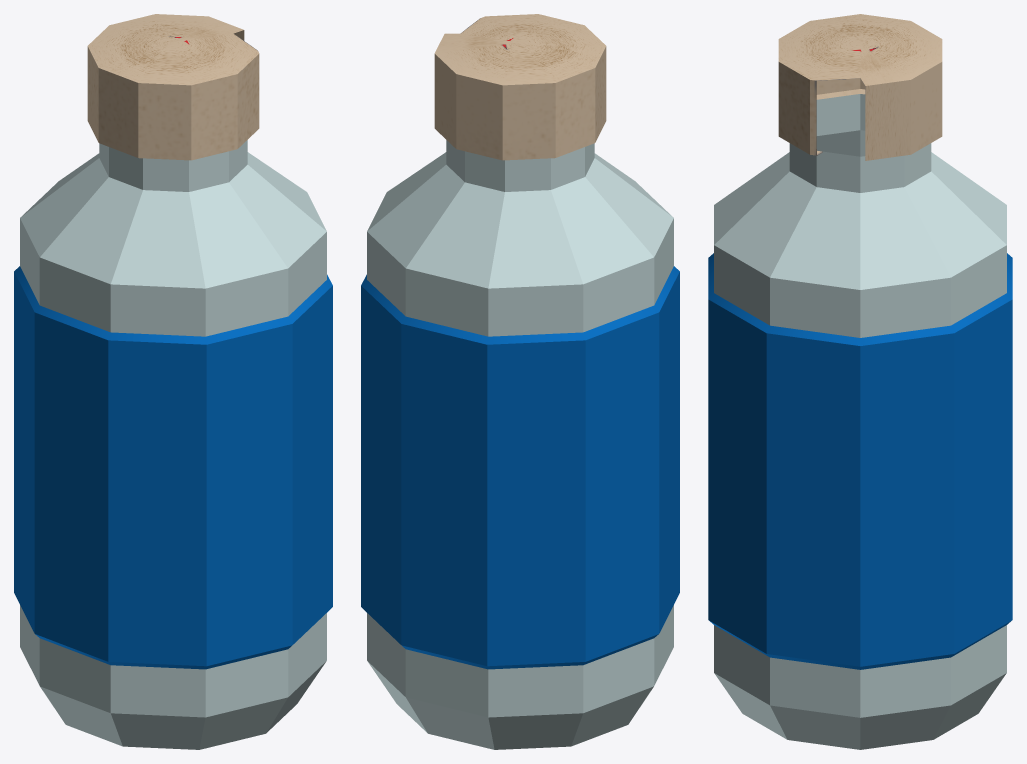
The model's file is Botella.fbx.
3 renders of one model, left to right at view 1: azimuth 30°, elevation 25°; view 2: azimuth 150°, elevation 25°; view 3: azimuth 270°, elevation 25°, orthographic.
Parts seen in each view (by area): view 1: Botella; view 2: Botella; view 3: Botella.
Boxes of the visible parts, x1=… form: Botella: x1=14, y1=14, x2=332, y2=749; Botella: x1=361, y1=14, x2=679, y2=749; Botella: x1=708, y1=14, x2=1012, y2=749.
Bounding box in the file's own units: 0.4389 × 0.9909 × 0.4175.
